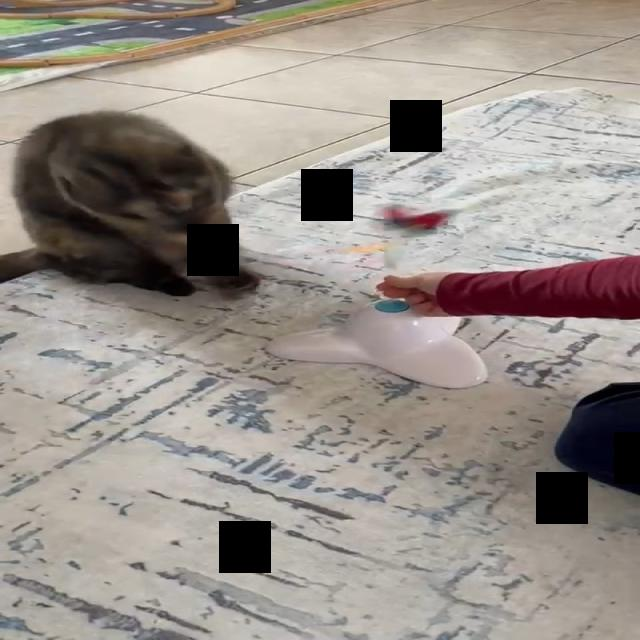authorized: (0, 109, 264, 297)
